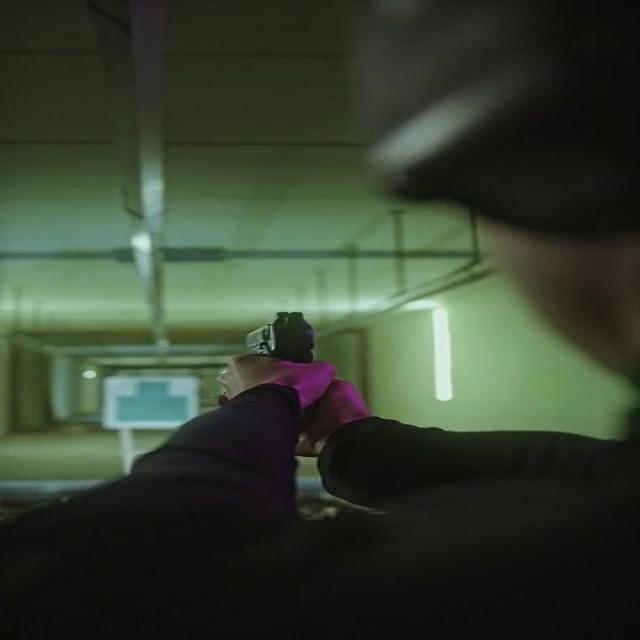Gun_Holder: (207, 304, 391, 431)
